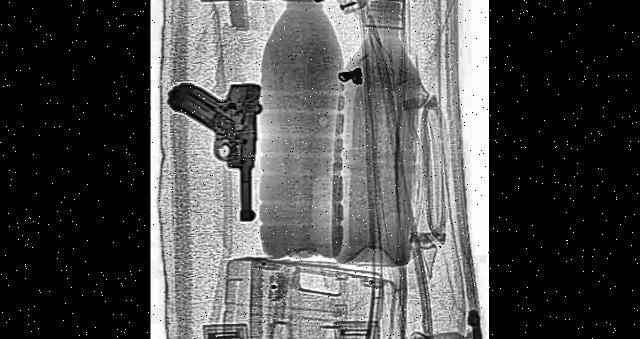Gun: (163, 68, 262, 224)
